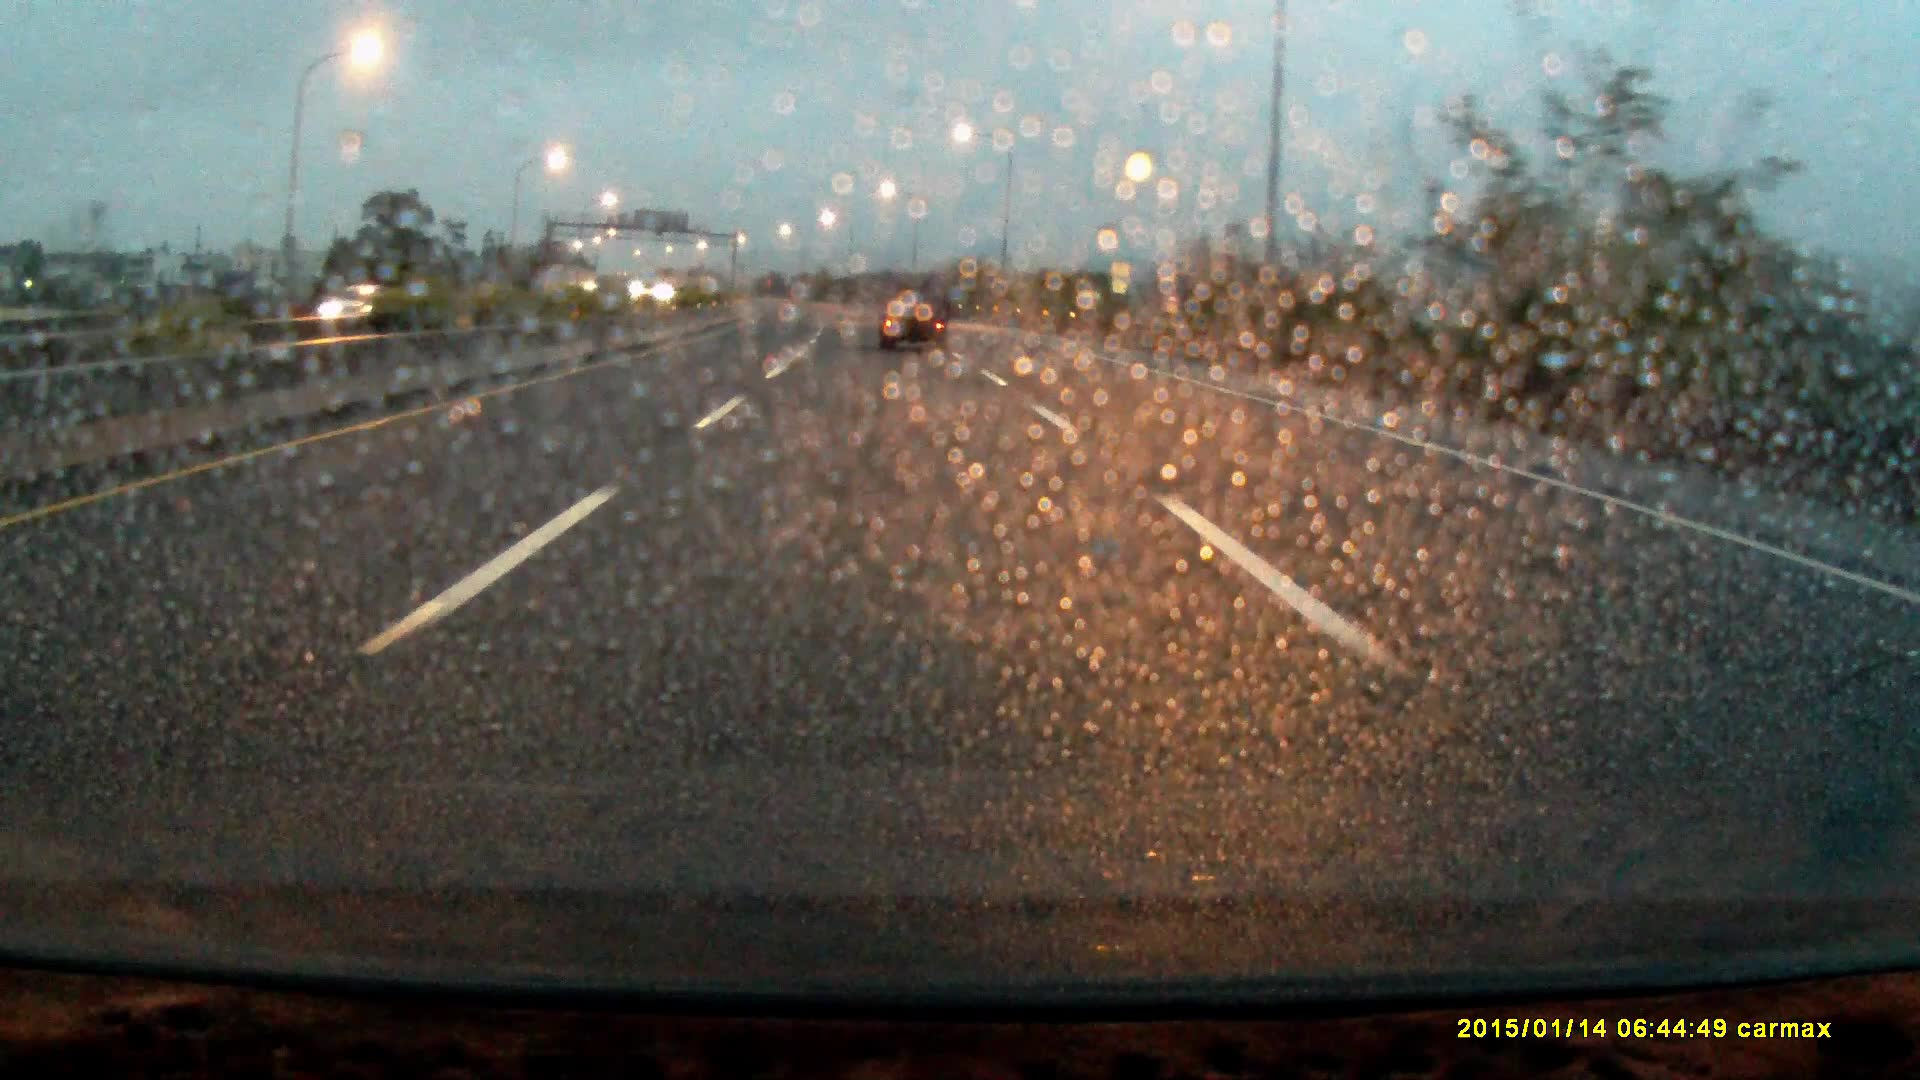vehicle: (878, 268, 948, 353), (318, 284, 394, 320)
